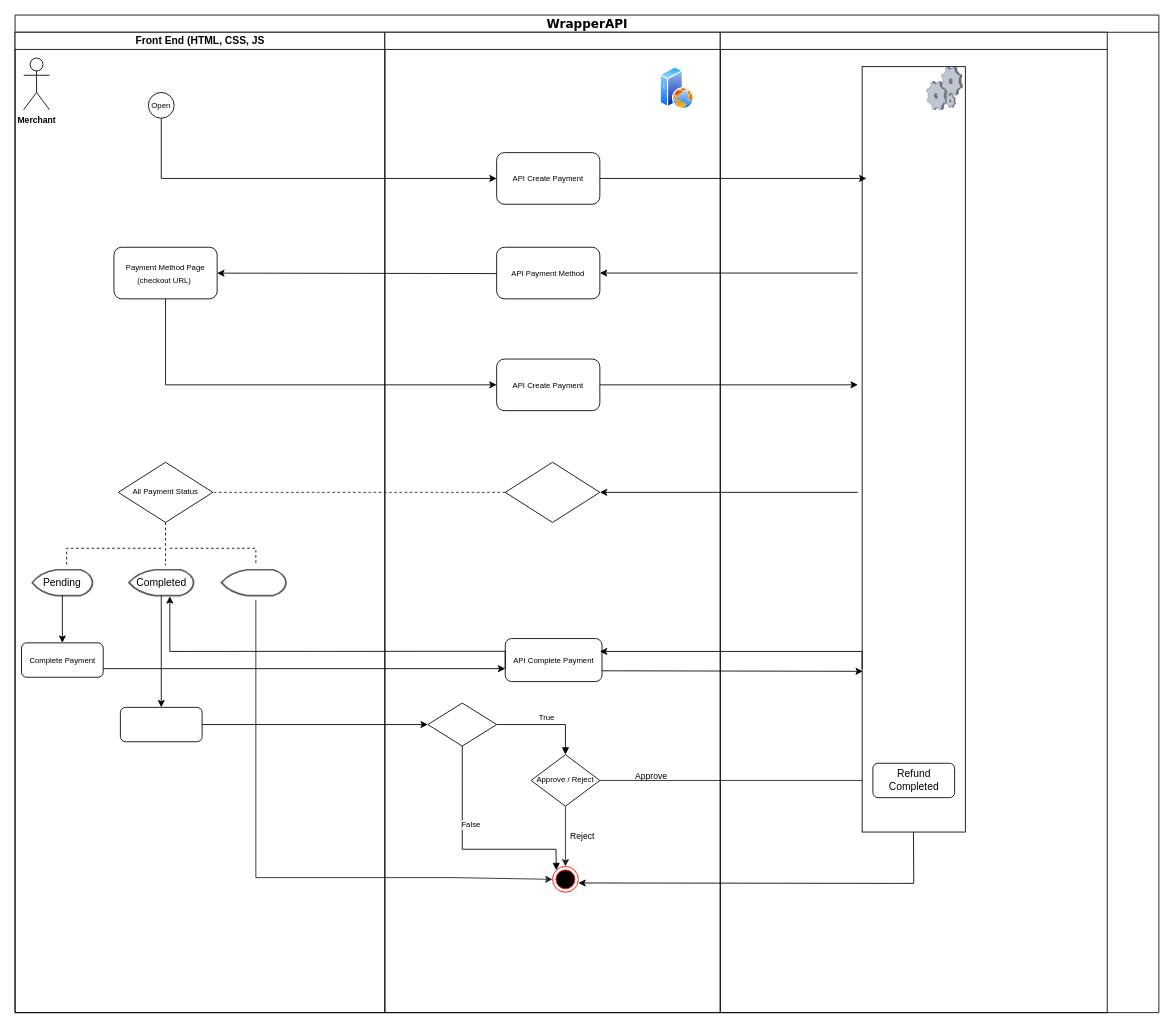
The diagram is 1174 pixels wide and 1028 high, and some of its shapes have lost their labels. The box of each missing label's shape, as (x1, y1, x2, y2) in pixels:
Back End (PHP): (384, 31, 720, 1013)
Create Refund: (120, 706, 202, 742)
Failed: (220, 568, 286, 596)
Payment Gateway (3rd Party): (719, 31, 1107, 1013)
Payment Gateway API: (861, 66, 965, 832)
Payment Status Database: (504, 461, 600, 522)
Refundable: (427, 702, 497, 746)
